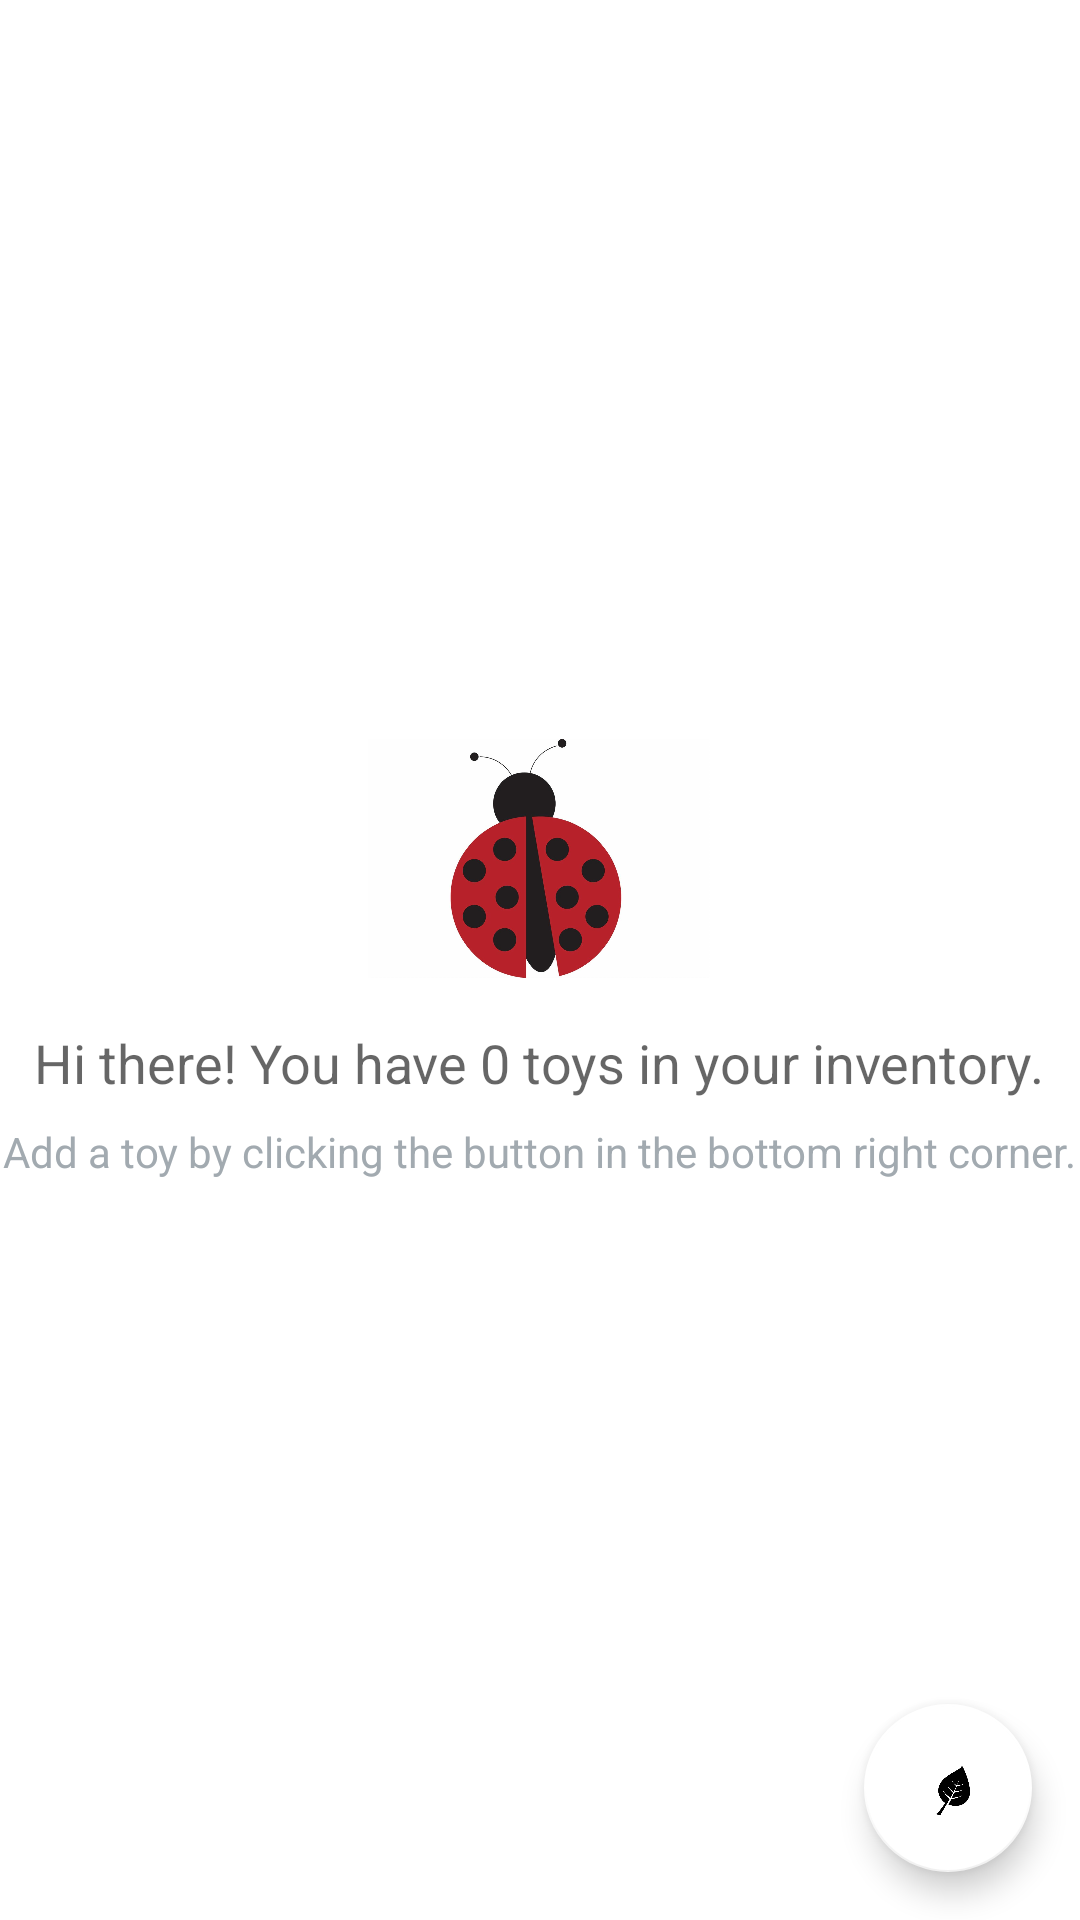

Icons on this 1080px×1920px Android screen, each with its box as (x1, y1, x2, y2):
ladybug: (450, 739, 622, 978)
